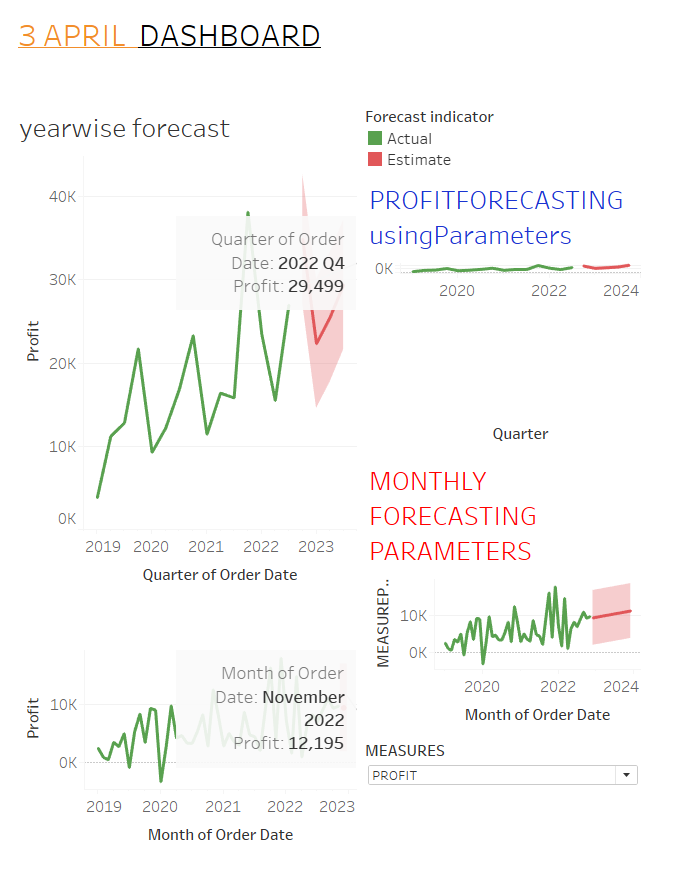

Layout of this report page (visuals, bound fields, positions):
{"tool":"tableau","page":{"name":"Dashboard 1","canvas":[650,860],"ordinal":0},"visuals":[{"type":"text","box":[8,8.1,634,44.9]},{"type":"worksheet","title":"yearwise forecast","mark":"Automatic","rows":["Profit"],"cols":["Order Date"],"box":[8,97.9,350,498.6]},{"type":"legend","title":"yearwise forecast","param":"[federated.1heymw30l3teg1110r3oa0q35xao].[none:Forecast Indicator:nk]","box":[358,97.9,284,72.7]},{"type":"worksheet","title":"FORECASTINGusingParameters","mark":"Automatic","rows":["Calculation_761108340479094785"],"cols":["Order Date"],"box":[358,170.6,284,280.1]},{"type":"worksheet","title":"MONTHLY FORECASTING PARAMETERS","mark":"Automatic","rows":["Calculation_761108340479094785"],"cols":["Order Date"],"box":[358,450.7,284,280.1]},{"type":"worksheet","title":"monthwise forecast","mark":"Automatic","rows":["Profit"],"cols":["Order Date"],"box":[8,596.5,350,255.4]},{"type":"parameter","param":"[Parameters].[Parameter 1]","box":[358,730.8,284,121.1]}]}

Visuals, with their boxes in screenshot pixels (x1, y1, x2, y2), scaled from the page's 650x860 canvas onto the 688x892 screenshot:
text: x1=8 y1=8 x2=680 y2=55
"yearwise forecast" worksheet: x1=8 y1=102 x2=379 y2=619
"yearwise forecast" legend: x1=379 y1=102 x2=680 y2=177
"FORECASTINGusingParameters" worksheet: x1=379 y1=177 x2=680 y2=467
"MONTHLY FORECASTING PARAMETERS" worksheet: x1=379 y1=467 x2=680 y2=758
"monthwise forecast" worksheet: x1=8 y1=619 x2=379 y2=884
parameter: x1=379 y1=758 x2=680 y2=884
